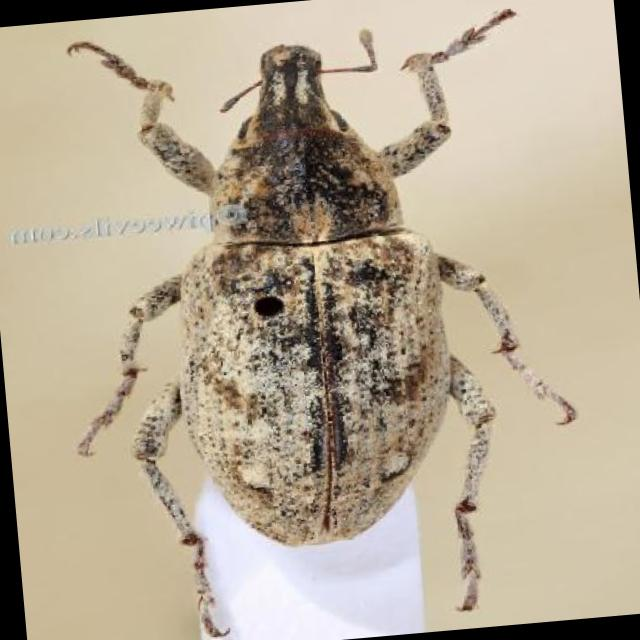rice-bug: (126, 23, 510, 565)
